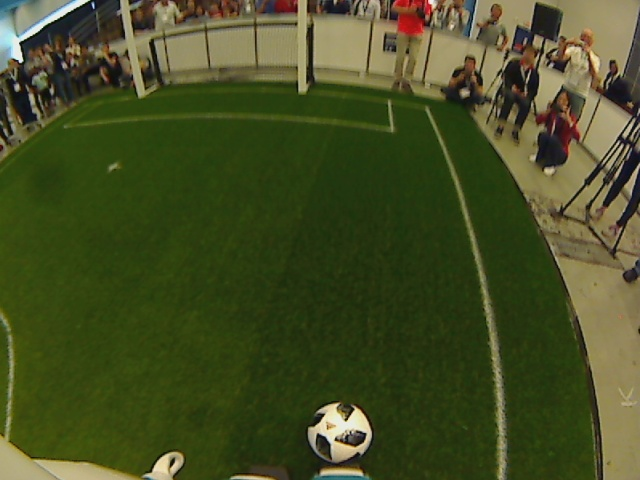ball: (304, 399, 374, 467)
